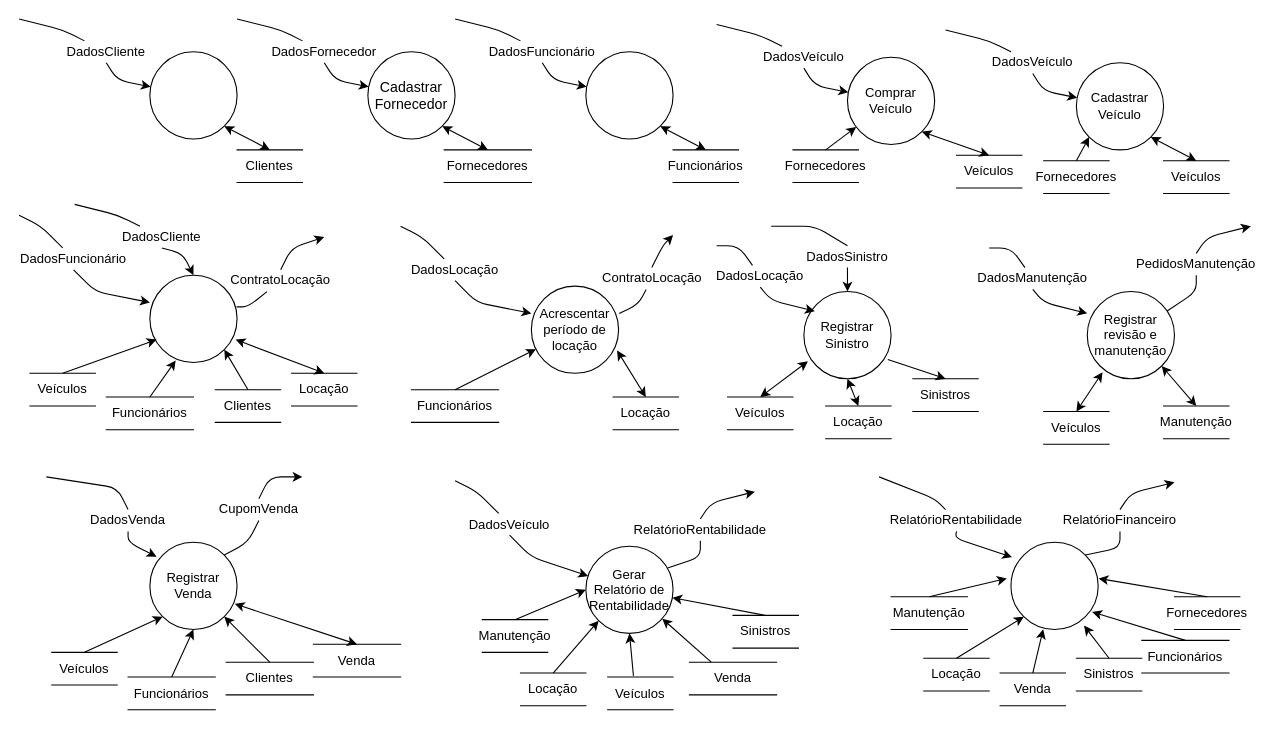
This 1279x729 diagram has some shape labels left out. Here are the shapes that lost their labels. From the top down, the box of each, then its label:
(149, 51, 237, 139): Cadastrar Cliente
(585, 51, 673, 139): Cadastrar Funcionário
(149, 274, 237, 362): Pedido Locação Veículo
(1010, 541, 1098, 629): Gerar Relatório Financeiro
